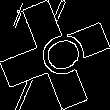O_W: (23, 25, 87, 85)
